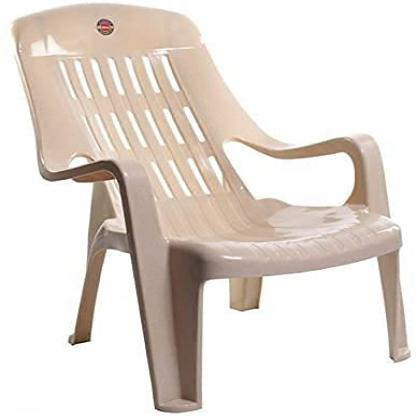chair: (14, 5, 415, 415)
